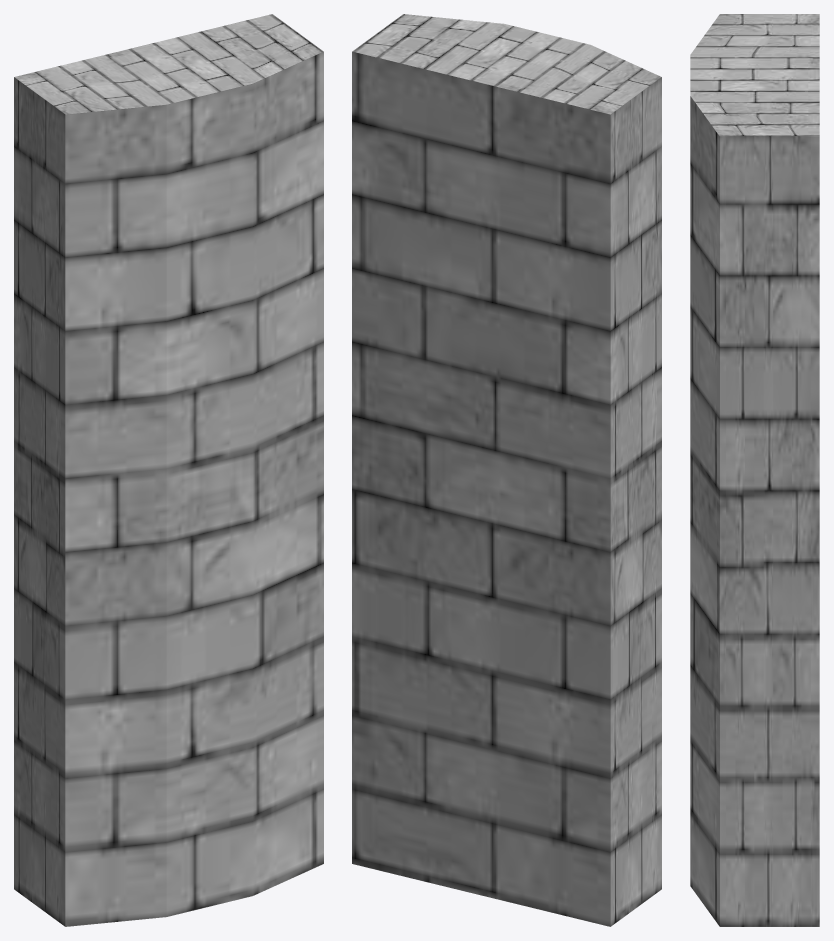
File: entre paredes coon tex.fbx
The picture shows the model from 3 angles, left to right: view 1: azimuth 30°, elevation 25°; view 2: azimuth 150°, elevation 25°; view 3: azimuth 270°, elevation 25°; orthographic projection. The views are drawn at different scales.
Visible parts, largest first — view 1: entre paredes; view 2: entre paredes; view 3: entre paredes.
Boxes of the visible parts, left/top/right/bottom form: entre paredes: left=14, top=14, right=323, bottom=926; entre paredes: left=352, top=14, right=661, bottom=926; entre paredes: left=690, top=14, right=819, bottom=926.
Size of the model in its own units: 99.87 by 300 by 44.52.
